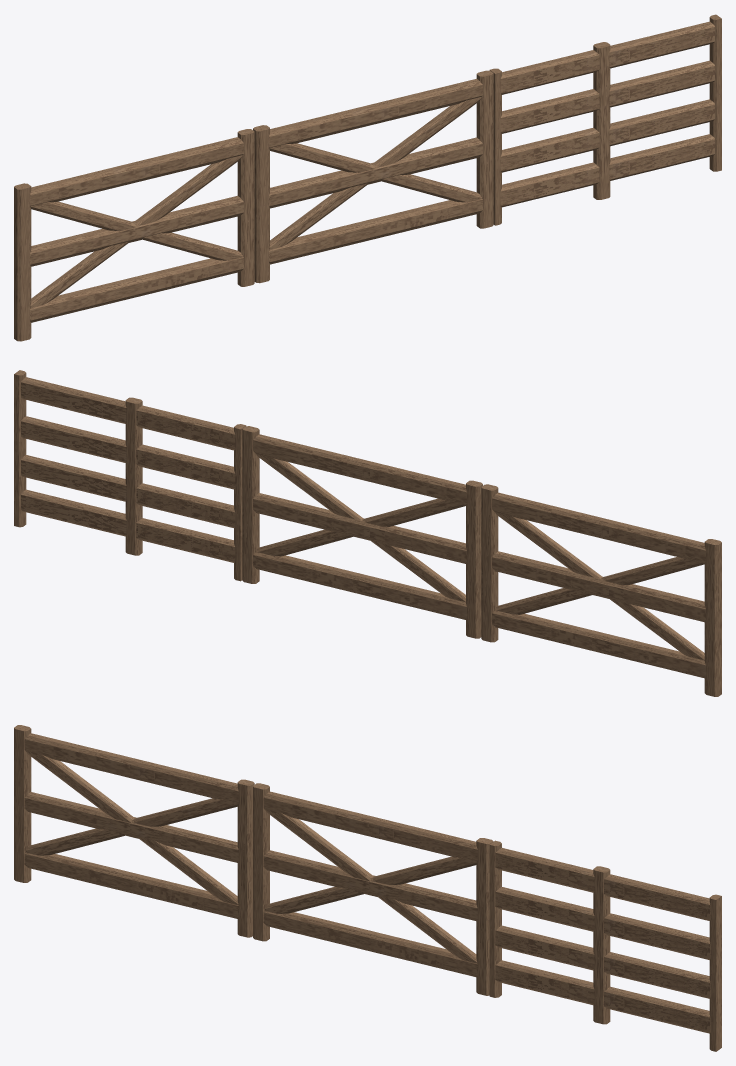
File: Wooden fence.fbx
The picture shows the model from 3 angles, top to bottom: view 1: azimuth 30°, elevation 25°; view 2: azimuth 150°, elevation 25°; view 3: azimuth 330°, elevation 25°; orthographic projection.
Visible parts, largest first — view 1: fence, door_left, door_right; view 2: fence, door_left, door_right; view 3: fence, door_left, door_right.
Boxes of the visible parts, x1,y1,x2,y2 form: fence: [489, 14, 721, 225]; door_left: [14, 129, 254, 341]; door_right: [253, 70, 493, 283]; fence: [14, 370, 246, 581]; door_left: [481, 484, 721, 696]; door_right: [242, 426, 482, 638]; fence: [489, 840, 721, 1051]; door_left: [14, 725, 254, 937]; door_right: [253, 783, 493, 995].
Bounding box in the file's own units: 465 × 95.89 × 6.59.
1 material, 1 textured.
